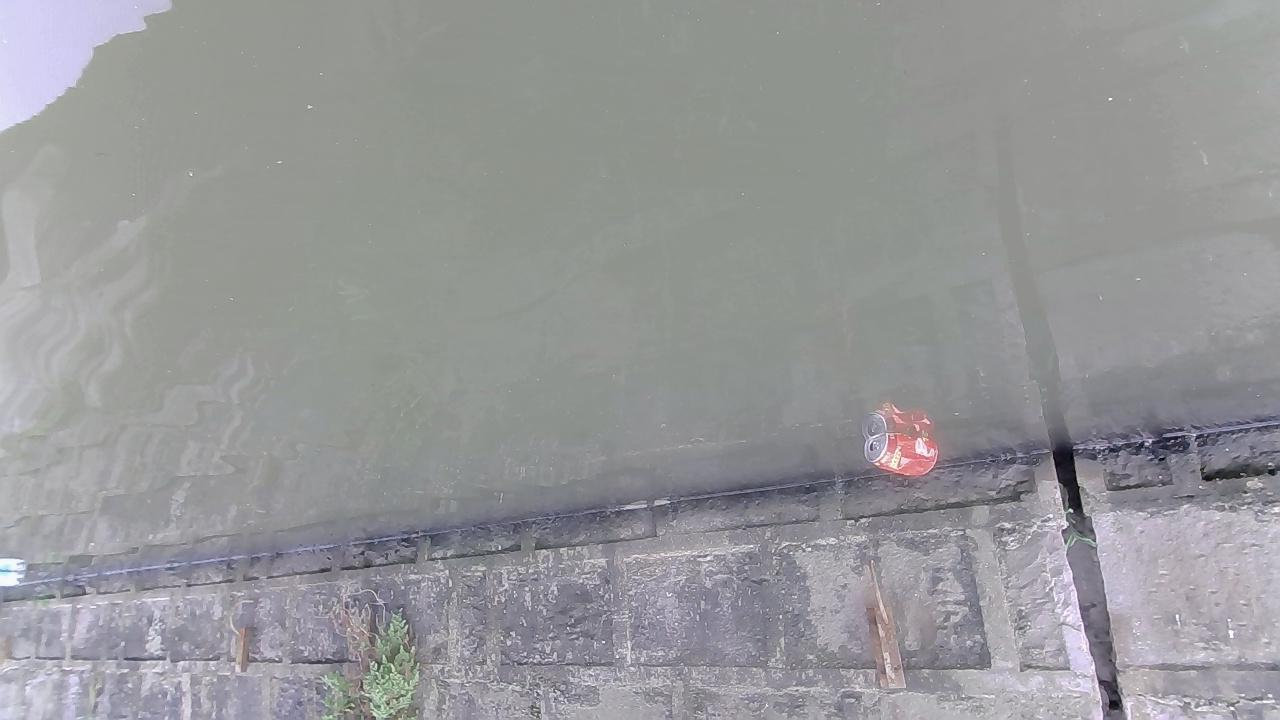Metal: (863, 431, 939, 477)
